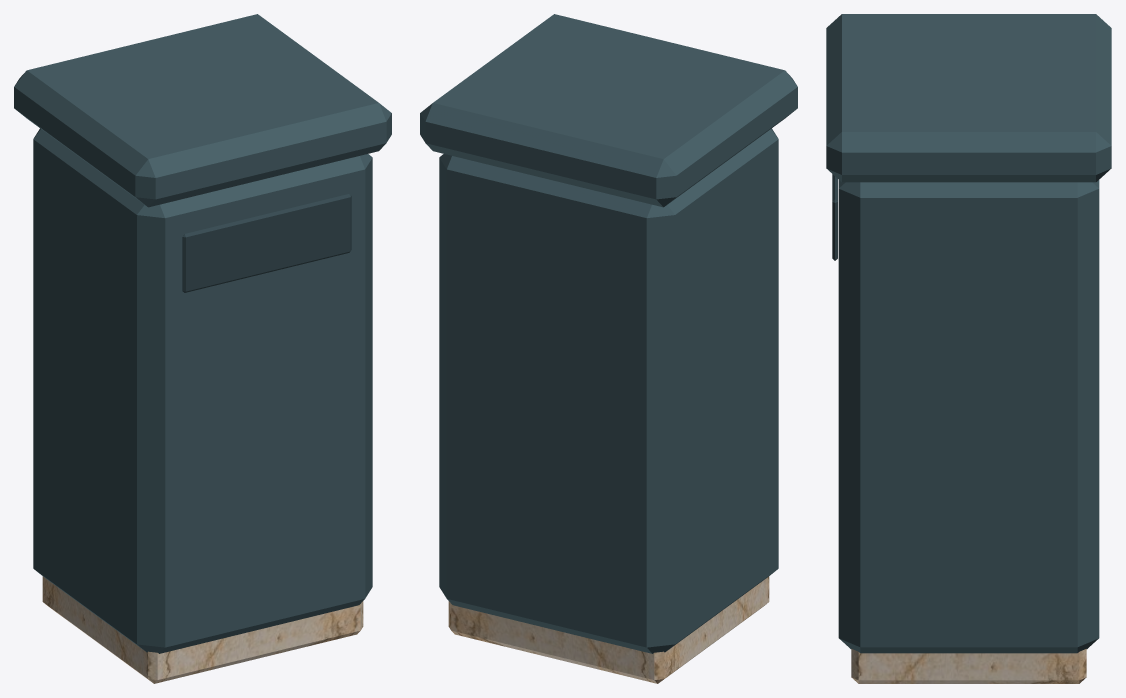
Rendered from litter_bin.glb.
3 views of the same model, side by side, from view 1: azimuth 30°, elevation 25°; view 2: azimuth 150°, elevation 25°; view 3: azimuth 270°, elevation 25° (orthographic). The views are drawn at different scales.
Visible parts, largest first — view 1: litter_bin__VVK_painted_steel, litter_bin__VVK_dark_glass, litter_bin__VVK_concrete_CC0; view 2: litter_bin__VVK_painted_steel, litter_bin__VVK_concrete_CC0; view 3: litter_bin__VVK_painted_steel, litter_bin__VVK_concrete_CC0, litter_bin__VVK_dark_glass.
Boxes of the visible parts, x1,y1,x2,y2 form: litter_bin__VVK_painted_steel: (14, 14, 391, 653); litter_bin__VVK_dark_glass: (182, 194, 351, 292); litter_bin__VVK_concrete_CC0: (42, 576, 363, 683); litter_bin__VVK_painted_steel: (420, 14, 797, 653); litter_bin__VVK_concrete_CC0: (448, 576, 769, 683); litter_bin__VVK_painted_steel: (826, 14, 1111, 653); litter_bin__VVK_concrete_CC0: (851, 649, 1086, 683); litter_bin__VVK_dark_glass: (832, 174, 837, 260).
Bounding box in the file's own units: 0.5 × 0.995 × 0.46.
Materials: 3 (1 with a texture image).
